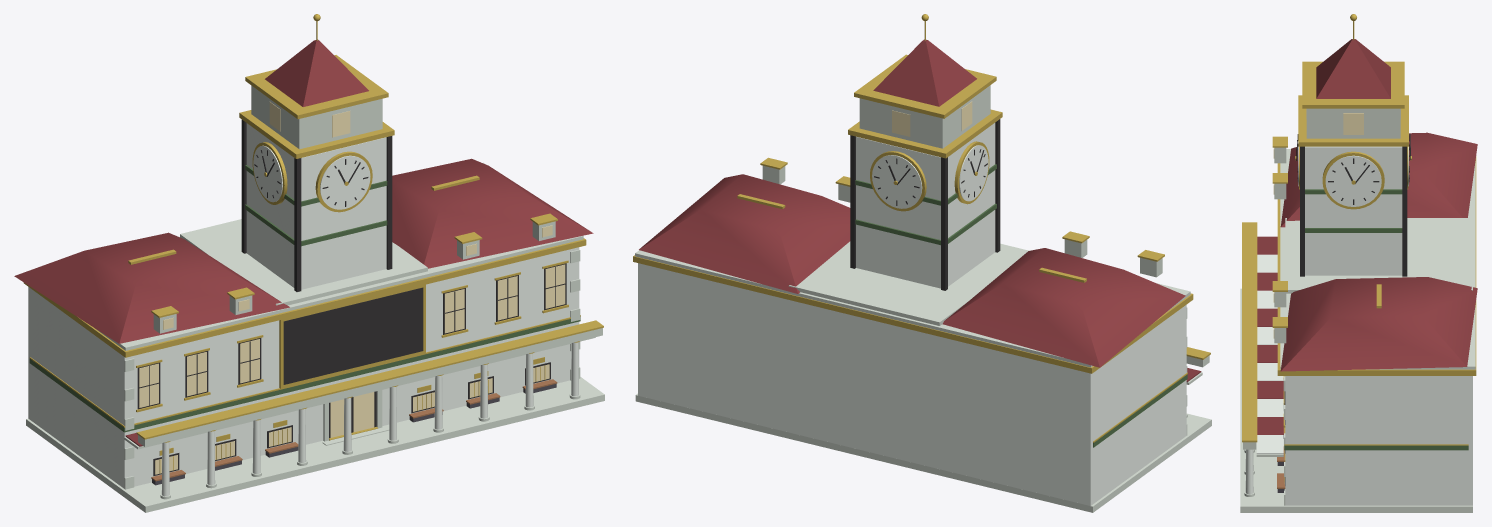
File: downs-club.glb
3 views of the same model, side by side, from view 1: azimuth 30°, elevation 25°; view 2: azimuth 150°, elevation 25°; view 3: azimuth 270°, elevation 25° (orthographic). The views are drawn at different scales.
Visible parts, largest first — view 1: dn_club_mint, dn_club_barn, dn_club_mint2, dn_club_gold, dn_club_black, dn_club_glasswarm, dn_club_money2, dn_club_saddle, dn_club_black2; view 2: dn_club_mint, dn_club_barn, dn_club_mint2, dn_club_gold, dn_club_black, dn_club_money2, dn_club_glasswarm; view 3: dn_club_mint, dn_club_barn, dn_club_mint2, dn_club_gold, dn_club_money2, dn_club_black, dn_club_glasswarm.
Boxes of the visible parts, <box> form: dn_club_mint: <box>28,123,579,496</box>; dn_club_barn: <box>14,39,593,446</box>; dn_club_mint2: <box>26,85,604,512</box>; dn_club_gold: <box>23,14,603,473</box>; dn_club_black: <box>137,119,566,475</box>; dn_club_glasswarm: <box>139,102,565,474</box>; dn_club_money2: <box>29,165,580,432</box>; dn_club_saddle: <box>151,379,557,481</box>; dn_club_black2: <box>152,383,556,485</box>; dn_club_mint: <box>638,123,1186,505</box>; dn_club_barn: <box>639,39,1201,382</box>; dn_club_mint2: <box>635,85,1211,512</box>; dn_club_gold: <box>633,14,1210,442</box>; dn_club_black: <box>850,119,1000,290</box>; dn_club_money2: <box>855,164,1187,447</box>; dn_club_glasswarm: <box>892,101,972,136</box>; dn_club_mint: <box>1245,146,1472,505</box>; dn_club_barn: <box>1257,39,1477,434</box>; dn_club_mint2: <box>1240,108,1475,512</box>; dn_club_gold: <box>1242,14,1476,481</box>; dn_club_money2: <box>1284,189,1468,450</box>; dn_club_black: <box>1284,134,1410,485</box>; dn_club_glasswarm: <box>1273,109,1400,483</box>.
Bounding box in the file's own units: 63.13 × 50.42 × 27.86.
